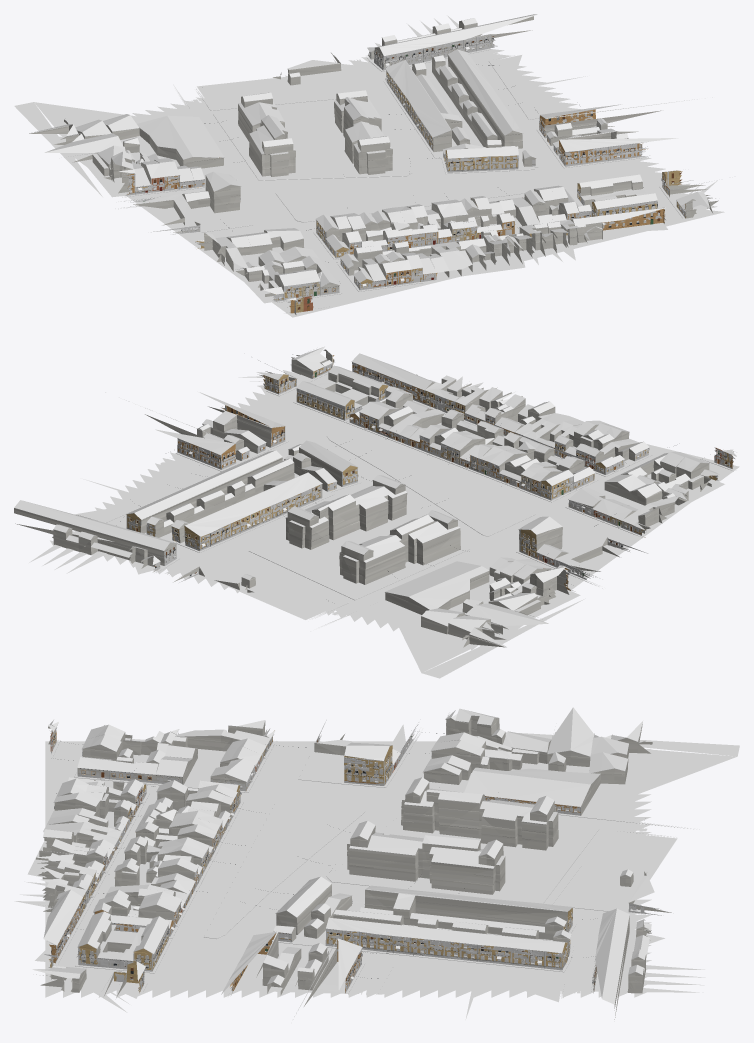
The model's file is zona_3_-3.glb.
The picture shows the model from 3 angles, top to bottom: view 1: azimuth 30°, elevation 25°; view 2: azimuth 150°, elevation 25°; view 3: azimuth 270°, elevation 25°; orthographic projection. The views are drawn at different scales.
Visible parts, largest first — view 1: z_calle_3_-3, z_tejados_3_-3, z_casas_3_-3, z_fachadas_3_-3, z_suelo_3_-3, z_casas_planas_3_-3; view 2: z_calle_3_-3, z_tejados_3_-3, z_casas_3_-3, z_fachadas_3_-3, z_suelo_3_-3, z_casas_planas_3_-3; view 3: z_calle_3_-3, z_tejados_3_-3, z_casas_3_-3, z_fachadas_3_-3, z_suelo_3_-3, z_casas_planas_3_-3.
Part boxes in pixels (left/top/right/bottom): z_calle_3_-3: left=14, top=15, right=724, bottom=317; z_tejados_3_-3: left=29, top=14, right=715, bottom=300; z_casas_3_-3: left=29, top=16, right=718, bottom=314; z_fachadas_3_-3: left=118, top=34, right=686, bottom=310; z_suelo_3_-3: left=131, top=49, right=539, bottom=312; z_casas_planas_3_-3: left=92, top=53, right=646, bottom=294; z_calle_3_-3: left=29, top=364, right=739, bottom=678; z_tejados_3_-3: left=14, top=346, right=736, bottom=647; z_casas_3_-3: left=14, top=349, right=733, bottom=647; z_fachadas_3_-3: left=77, top=355, right=734, bottom=590; z_suelo_3_-3: left=107, top=414, right=730, bottom=616; z_casas_planas_3_-3: left=173, top=379, right=708, bottom=615; z_calle_3_-3: left=14, top=729, right=739, bottom=1019; z_tejados_3_-3: left=32, top=707, right=651, bottom=1019; z_casas_3_-3: left=36, top=716, right=652, bottom=1019; z_fachadas_3_-3: left=44, top=713, right=661, bottom=995; z_suelo_3_-3: left=49, top=733, right=647, bottom=996; z_casas_planas_3_-3: left=64, top=724, right=671, bottom=966.
Size of the model in its own units: 262 by 14.73 by 244.
